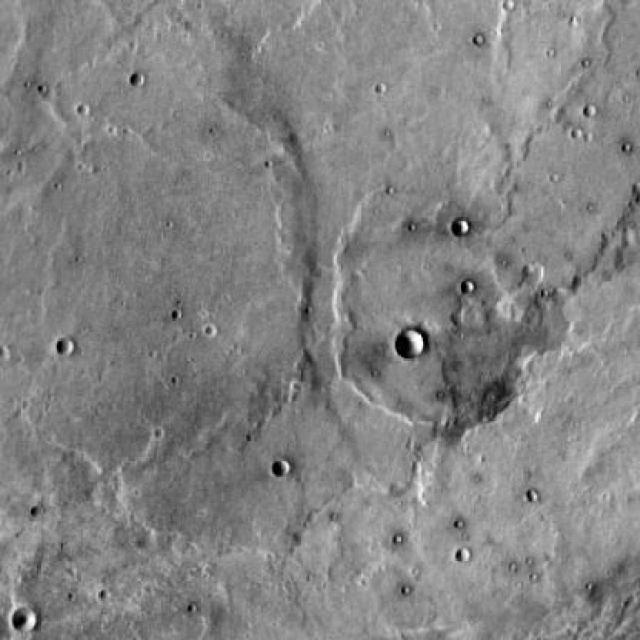crater: (0, 90, 318, 464), (338, 210, 551, 435), (398, 328, 431, 358), (15, 608, 36, 628), (268, 458, 288, 478), (456, 217, 475, 235), (0, 264, 3, 281)
